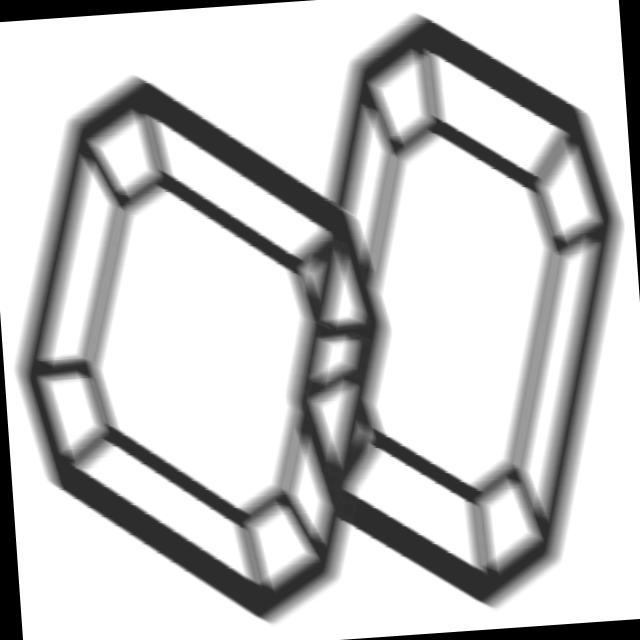emerald: (1, 47, 420, 640), (253, 1, 640, 626)
